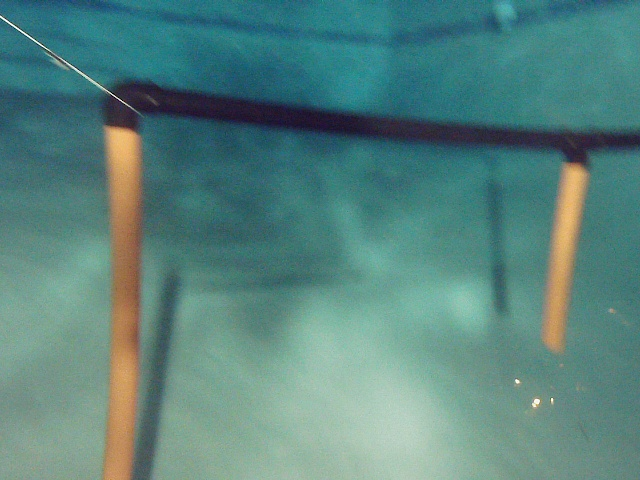Gate: (101, 121, 155, 480), (536, 156, 595, 357)
